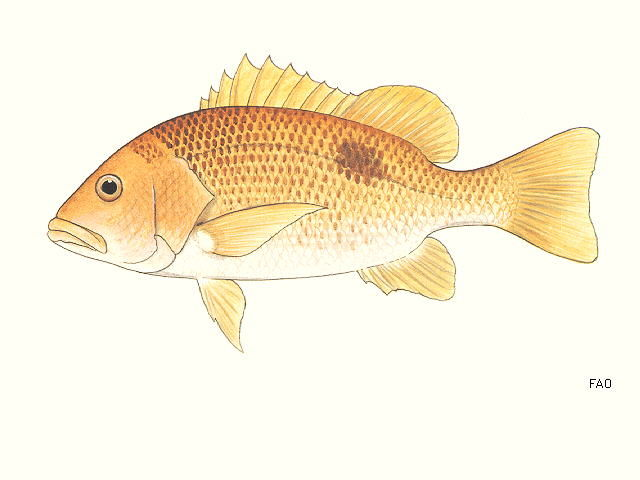fish: (47, 51, 601, 354)
